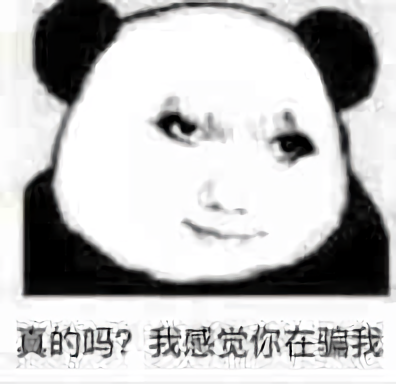dragon: (141, 92, 321, 249)
